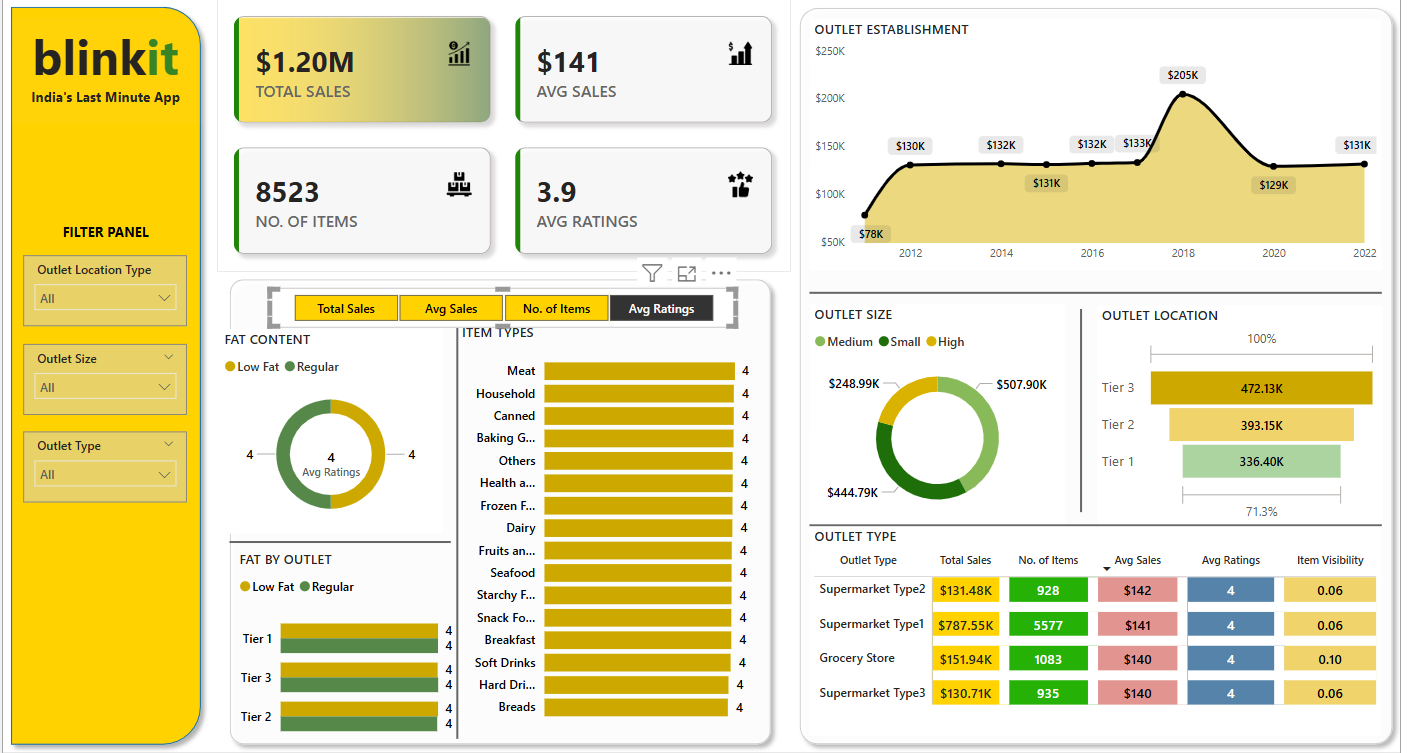

Layout of this report page (visuals, bound fields, positions):
{"tool":"powerbi","page":{"name":"Dashboard","canvas":[1400,800],"ordinal":0},"visuals":[{"type":"cardVisual","fields":{"Data":["BlinkIT Grocery Data.Total Sales","BlinkIT Grocery Data.Avg Sales","BlinkIT Grocery Data.No. of Items","BlinkIT Grocery Data.Avg Ratings"]},"box":[213.1,25.3,569.6,270.1],"z":1000,"group":"g1"},{"type":"shape","box":[0,23.6,206.4,750.4],"z":1500,"group":"g1"},{"type":"textbox","box":[0,43.7,205.8,104.7],"z":2000,"group":"g1"},{"type":"shape","box":[216.8,293.6,554.9,479.5],"z":3000,"group":"g1"},{"type":"donutChart","title":"FAT CONTENT","fields":{"Y":["BlinkIT Grocery Data.Avg Ratings"],"Category":["BlinkIT Grocery Data.Item Fat Content"]},"box":[215.3,351.9,221.3,203.2],"z":4000,"group":"g1"},{"type":"slicer","fields":{"Values":["Matrix.Matrix"]},"box":[264,311.6,465.6,40],"z":5000,"group":"g1"},{"type":"cardVisual","fields":{"Data":["BlinkIT Grocery Data.Avg Ratings"]},"box":[273.6,452.4,105.6,62.4],"z":6000,"group":"g1"},{"type":"clusteredBarChart","title":"FAT BY OUTLET","fields":{"Y":["BlinkIT Grocery Data.Avg Ratings"],"Category":["BlinkIT Grocery Data.Outlet Location Type"],"Series":["BlinkIT Grocery Data.Item Fat Content"]},"box":[230.3,570.1,221.3,203.2],"z":7000,"group":"g1"},{"type":"shape","box":[225.5,543.6,219.6,40.7],"z":8000,"group":"g1"},{"type":"shape","box":[436.8,351.6,30.4,408],"z":9000,"group":"g1"},{"type":"barChart","title":"ITEM TYPES","fields":{"Y":["BlinkIT Grocery Data.Avg Ratings"],"Category":["BlinkIT Grocery Data.Item Type"]},"box":[451.6,345.8,295.1,404.9],"z":10000,"group":"g1"},{"type":"shape","box":[782.4,25.2,606.4,748.8],"z":11000,"group":"g1"},{"type":"lineChart","title":"OUTLET  ESTABLISHMENT","fields":{"Category":["BlinkIT Grocery Data.Outlet Establishment Year"],"Y":["BlinkIT Grocery Data.Total Sales"]},"box":[801.6,44.4,568,249.6],"z":12000,"group":"g1"},{"type":"shape","box":[801.6,294,568,44.8],"z":13000,"group":"g1"},{"type":"donutChart","title":"OUTLET SIZE","fields":{"Y":["BlinkIT Grocery Data.Total Sales","BlinkIT Grocery Data.Total Sales"],"Category":["BlinkIT Grocery Data.Outlet Size"]},"box":[801.6,327.6,254.4,220.8],"z":14000,"group":"g1"},{"type":"shape","box":[1056,332.4,30.4,201.6],"z":15000,"group":"g1"},{"type":"funnel","title":"OUTLET LOCATION","fields":{"Category":["BlinkIT Grocery Data.Outlet Location Type"],"Y":["Sum(BlinkIT Grocery Data.Sales)"]},"box":[1086.5,328.3,283.6,219.6],"z":16000,"group":"g1"},{"type":"shape","box":[801.6,524.4,568,44.8],"z":17000,"group":"g1"},{"type":"pivotTable","title":"OUTLET TYPE","fields":{"Rows":["BlinkIT Grocery Data.Outlet Type"],"Values":["BlinkIT Grocery Data.Total Sales","BlinkIT Grocery Data.No. of Items","BlinkIT Grocery Data.Avg Sales","BlinkIT Grocery Data.Avg Ratings","Avg(BlinkIT Grocery Data.Item Visibility)"]},"box":[801.6,548.4,568,208],"z":18000,"group":"g1"},{"type":"textbox","box":[50.9,242.5,104.2,31],"z":22000,"group":"g1"},{"type":"group","id":"g1","title":"Group 1","box":[0,23.6,1388.8,750.4],"z":22003},{"type":"slicer","fields":{"Values":["BlinkIT Grocery Data.Outlet Location Type"]},"box":[21.1,279.6,162.6,70.8],"z":22500,"group":"g1"},{"type":"slicer","fields":{"Values":["BlinkIT Grocery Data.Outlet Size"]},"box":[21.1,366.9,162.6,70.8],"z":22750,"group":"g1"},{"type":"slicer","fields":{"Values":["BlinkIT Grocery Data.Outlet Type"]},"box":[21.1,454.2,162.6,70.8],"z":22875,"group":"g1"}]}

Visuals, with their boxes on the page's 1400x800 design canvas (x1, y1, x2, y2). These are canvas units, not pixel positions in the 1408x753 screenshot, which may show the page scaled, cropped or inside an application window:
cardVisual - BlinkIT Grocery Data.Total Sales x BlinkIT Grocery Data.Avg Sales: {"left": 213, "top": 25, "right": 783, "bottom": 295}
shape: {"left": 0, "top": 24, "right": 206, "bottom": 774}
textbox: {"left": 0, "top": 44, "right": 206, "bottom": 148}
shape: {"left": 217, "top": 294, "right": 772, "bottom": 773}
"FAT CONTENT" donutChart: {"left": 215, "top": 352, "right": 437, "bottom": 555}
slicer - Matrix.Matrix: {"left": 264, "top": 312, "right": 730, "bottom": 352}
cardVisual - BlinkIT Grocery Data.Avg Ratings: {"left": 274, "top": 452, "right": 379, "bottom": 515}
"FAT BY OUTLET" clusteredBarChart: {"left": 230, "top": 570, "right": 452, "bottom": 773}
shape: {"left": 226, "top": 544, "right": 445, "bottom": 584}
shape: {"left": 437, "top": 352, "right": 467, "bottom": 760}
"ITEM TYPES" barChart: {"left": 452, "top": 346, "right": 747, "bottom": 751}
shape: {"left": 782, "top": 25, "right": 1389, "bottom": 774}
"OUTLET  ESTABLISHMENT" lineChart: {"left": 802, "top": 44, "right": 1370, "bottom": 294}
shape: {"left": 802, "top": 294, "right": 1370, "bottom": 339}
"OUTLET SIZE" donutChart: {"left": 802, "top": 328, "right": 1056, "bottom": 548}
shape: {"left": 1056, "top": 332, "right": 1086, "bottom": 534}
"OUTLET LOCATION" funnel: {"left": 1086, "top": 328, "right": 1370, "bottom": 548}
shape: {"left": 802, "top": 524, "right": 1370, "bottom": 569}
"OUTLET TYPE" pivotTable: {"left": 802, "top": 548, "right": 1370, "bottom": 756}
textbox: {"left": 51, "top": 242, "right": 155, "bottom": 274}
"Group 1" group: {"left": 0, "top": 24, "right": 1389, "bottom": 774}
slicer - BlinkIT Grocery Data.Outlet Location Type: {"left": 21, "top": 280, "right": 184, "bottom": 350}
slicer - BlinkIT Grocery Data.Outlet Size: {"left": 21, "top": 367, "right": 184, "bottom": 438}
slicer - BlinkIT Grocery Data.Outlet Type: {"left": 21, "top": 454, "right": 184, "bottom": 525}
